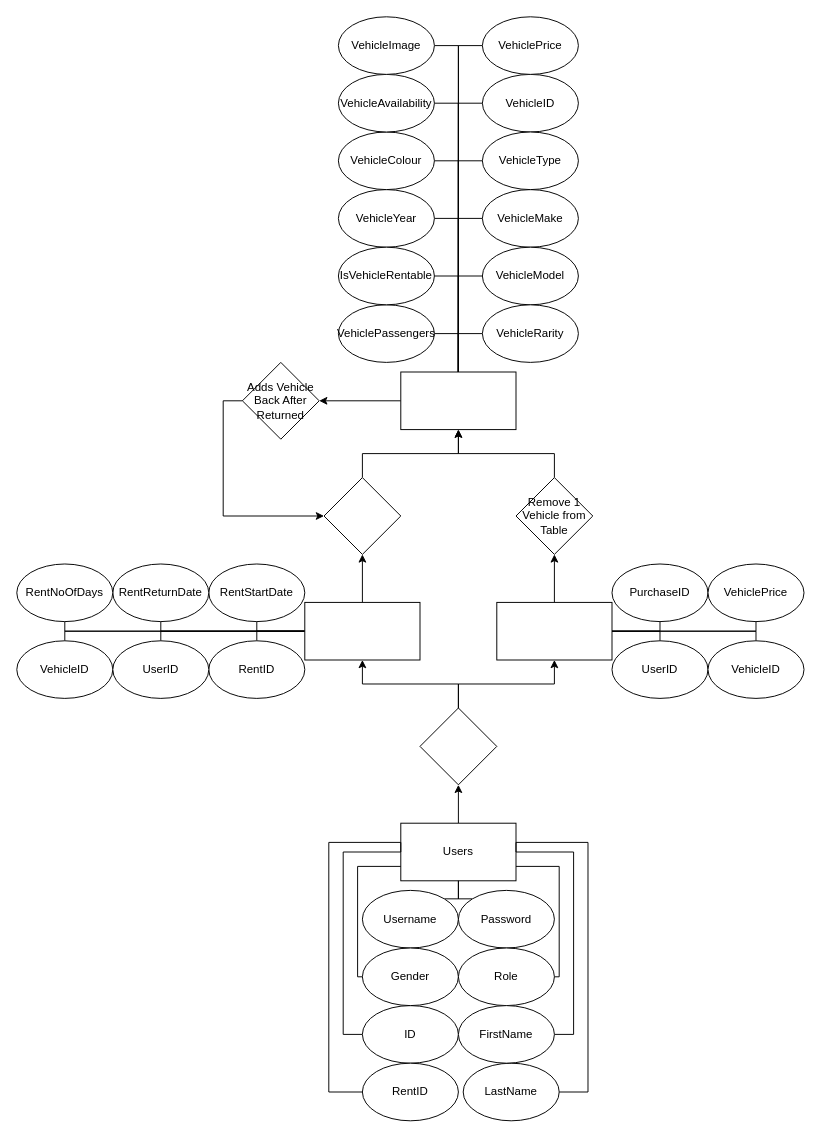
Image size: 821x1138. Some labels were removed from this diagram. Here are the shapes that lost their labels. From the top down, the box of each, then its label:
(400, 371, 516, 430): Vehicle
(323, 477, 401, 554): Makes 1 Vehicle Unavailable Temporarily
(304, 601, 420, 660): Rent
(496, 601, 612, 660): Purchase
(419, 707, 497, 785): Makes
